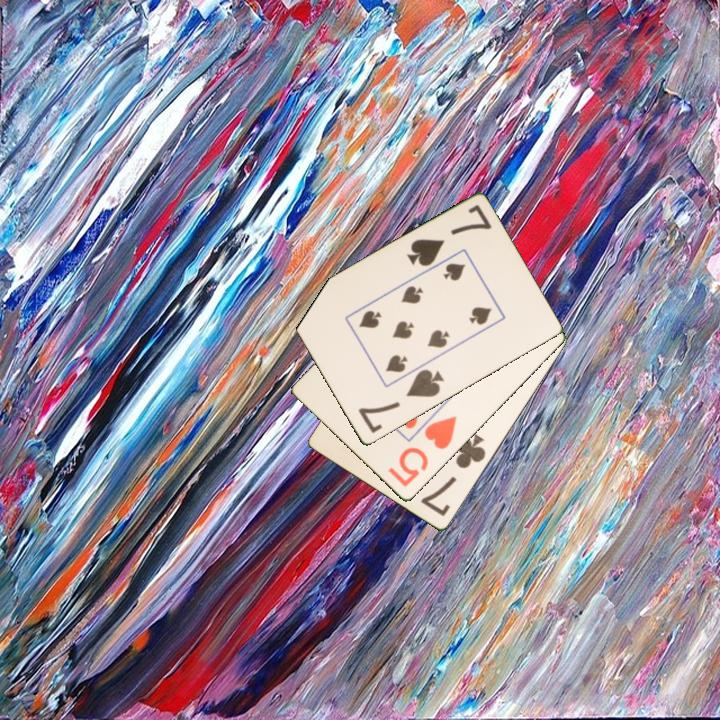5h: (384, 413, 460, 491)
7c: (417, 430, 489, 520)
7s: (354, 366, 447, 437), (403, 201, 495, 270)
